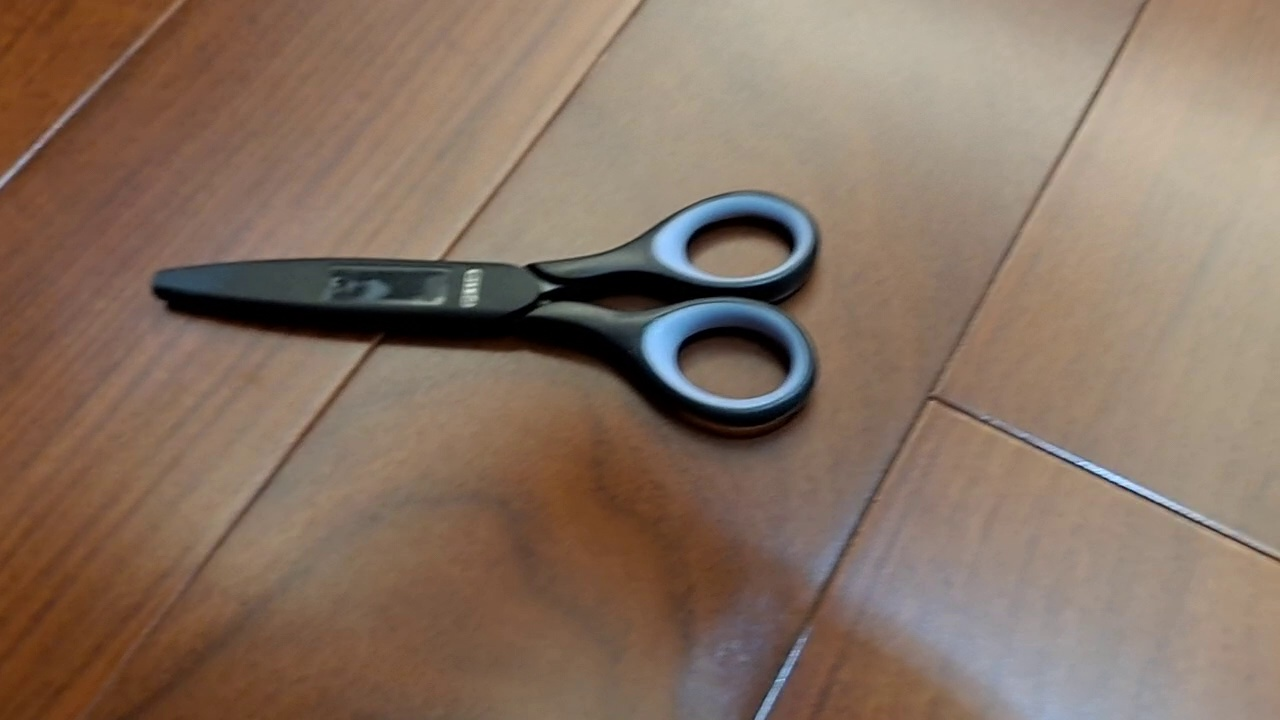scissors: (148, 188, 822, 430)
